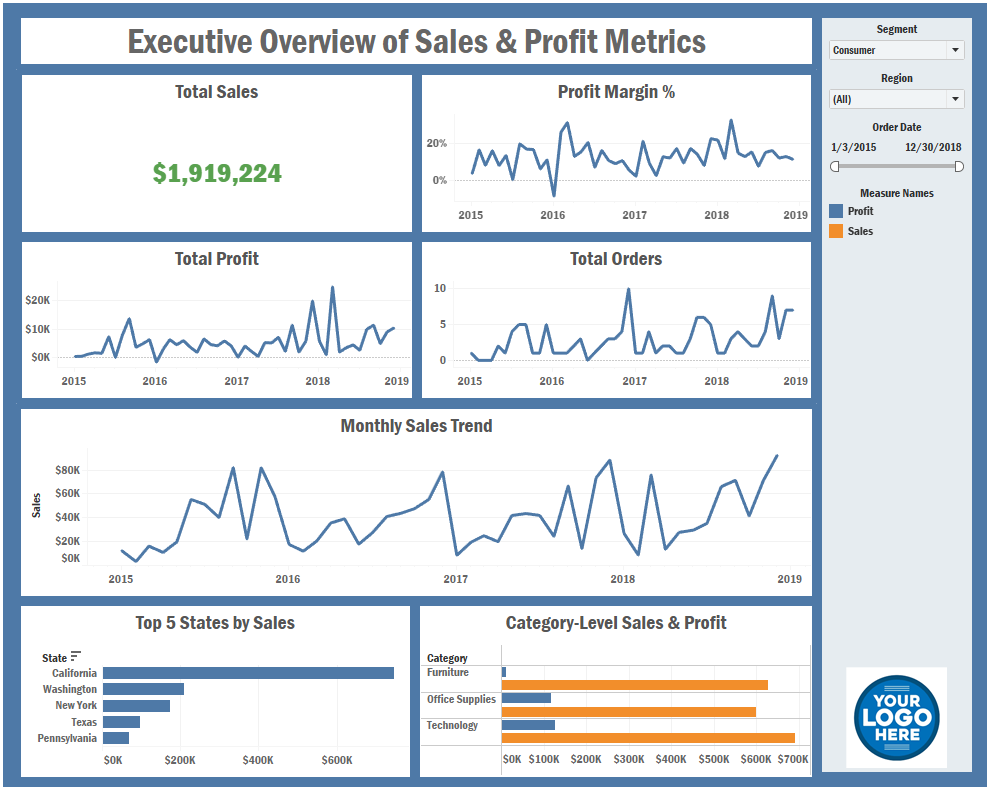

This screenshot's page, from the dashboard's own definition file:
{"tool":"tableau","page":{"name":"Basic KPI","canvas":[1000,800],"ordinal":0},"visuals":[{"type":"worksheet","title":"Total Sales","mark":"Automatic","box":[22,19,400,171]},{"type":"worksheet","title":"Profit Margin %","mark":"Automatic","rows":["Calculation_200410201441783809"],"cols":["Order Date"],"box":[422,19,399,171]},{"type":"filter","title":"Category-Level Sales & Profit","param":"[federated.1gqyjb81lcwkua1a8cj7d1fy2cie].[none:Segment:nk]","box":[827,23,150,52]},{"type":"filter","title":"Category-Level Sales & Profit","param":"[federated.1gqyjb81lcwkua1a8cj7d1fy2cie].[none:Region:nk]","box":[827,75,150,52]},{"type":"filter","title":"Category-Level Sales & Profit","param":"[federated.1gqyjb81lcwkua1a8cj7d1fy2cie].[none:Order Date:qk]","box":[827,127,150,69]},{"type":"worksheet","title":"Total Profit","mark":"Automatic","rows":["Profit"],"cols":["Order Date"],"box":[22,190,400,171]},{"type":"worksheet","title":"Total Orders","mark":"Automatic","rows":["Order ID"],"cols":["Order Date"],"box":[422,190,399,171]},{"type":"legend","title":"Category-Level Sales & Profit","param":"[federated.1gqyjb81lcwkua1a8cj7d1fy2cie].[:Measure Names]","box":[827,196,150,66]},{"type":"worksheet","title":"Monthly Sales Trend","mark":"Automatic","rows":["Sales"],"cols":["Order Date"],"box":[21,362,801,197]},{"type":"worksheet","title":"Top 5 States by Sales","mark":"Automatic","rows":["State"],"cols":["Sales"],"box":[21,559,409.5,228]},{"type":"worksheet","title":"Category-Level Sales & Profit","mark":"Automatic","rows":["Category"],"box":[430.5,559,391.5,228]}]}

Visuals, with their boxes in screenshot pixels (x1, y1, x2, y2), scaled from the page's 1000x800 canvas onto the 990x790 screenshot:
"Total Sales" worksheet: 22/19/418/188
"Profit Margin %" worksheet: 418/19/813/188
"Category-Level Sales & Profit" filter: 819/23/967/74
"Category-Level Sales & Profit" filter: 819/74/967/125
"Category-Level Sales & Profit" filter: 819/125/967/194
"Total Profit" worksheet: 22/188/418/356
"Total Orders" worksheet: 418/188/813/356
"Category-Level Sales & Profit" legend: 819/194/967/259
"Monthly Sales Trend" worksheet: 21/357/814/552
"Top 5 States by Sales" worksheet: 21/552/426/777
"Category-Level Sales & Profit" worksheet: 426/552/814/777
